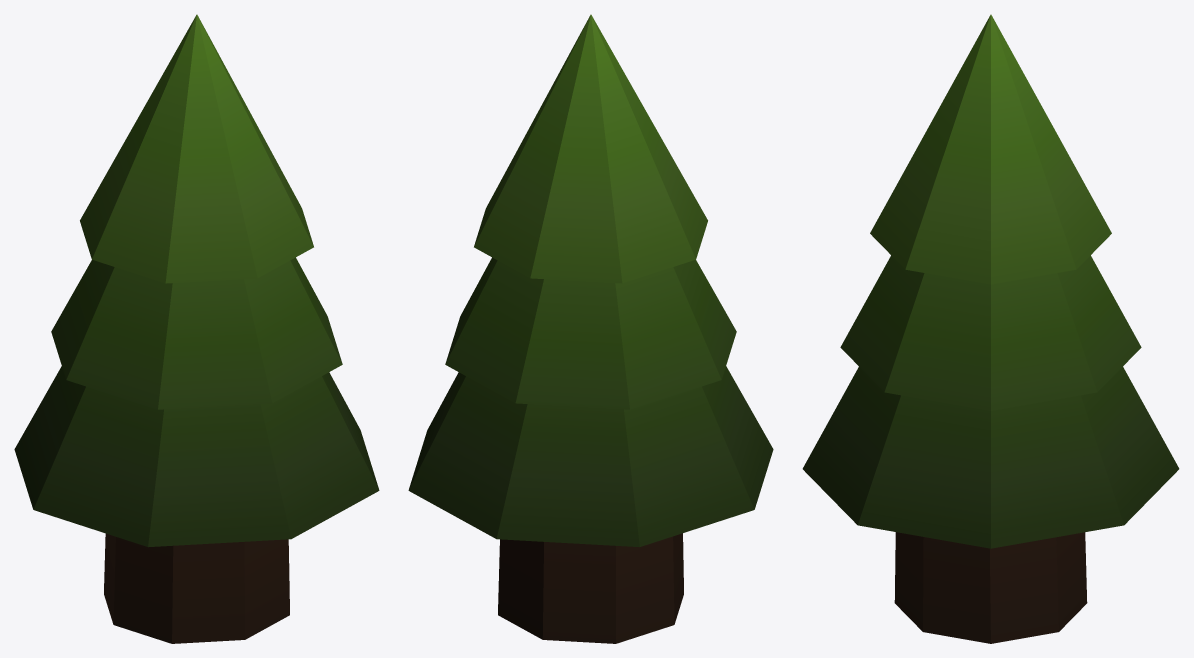
File: scenery1.glb
The picture shows the model from 3 angles, left to right: view 1: azimuth 30°, elevation 25°; view 2: azimuth 150°, elevation 25°; view 3: azimuth 270°, elevation 25°; orthographic projection.
Parts seen in each view (by area): view 1: b_leaves, t_leaves, m_leaves, trunk; view 2: b_leaves, t_leaves, m_leaves, trunk; view 3: b_leaves, t_leaves, m_leaves, trunk.
Boxes of the visible parts, bbox=[...] form: b_leaves: bbox=[14, 366, 379, 547]; t_leaves: bbox=[80, 14, 313, 283]; m_leaves: bbox=[51, 257, 342, 409]; trunk: bbox=[104, 533, 289, 643]; b_leaves: bbox=[408, 366, 773, 547]; t_leaves: bbox=[474, 14, 707, 283]; m_leaves: bbox=[445, 257, 736, 409]; trunk: bbox=[498, 533, 683, 643]; b_leaves: bbox=[802, 367, 1179, 548]; t_leaves: bbox=[870, 14, 1111, 284]; m_leaves: bbox=[840, 255, 1141, 410]; trunk: bbox=[894, 532, 1087, 643].
Bounding box in the file's own units: 3.92 × 6.76 × 3.92.
1 material, 1 textured.
